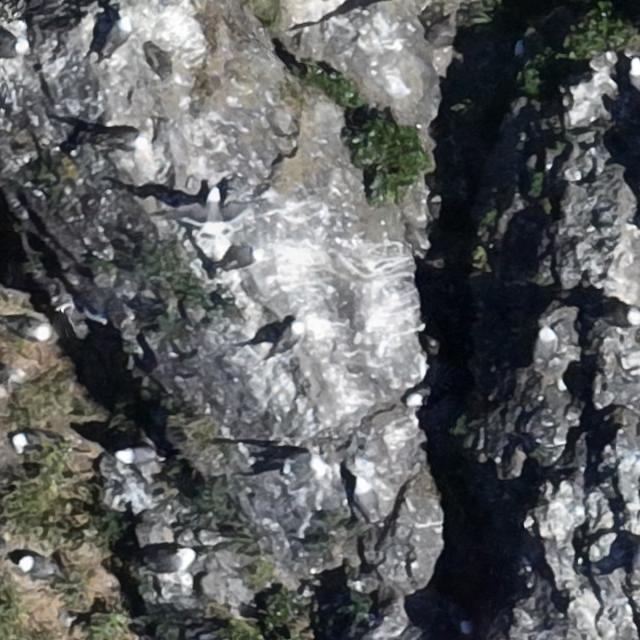F: (168, 186, 262, 238)
umineko: (140, 546, 195, 573), (216, 245, 265, 273), (4, 318, 51, 342), (268, 323, 302, 352), (281, 457, 324, 479), (105, 19, 130, 54), (356, 480, 377, 521), (18, 555, 54, 575), (0, 36, 30, 58), (14, 432, 46, 452), (119, 448, 154, 464), (537, 330, 555, 361)
